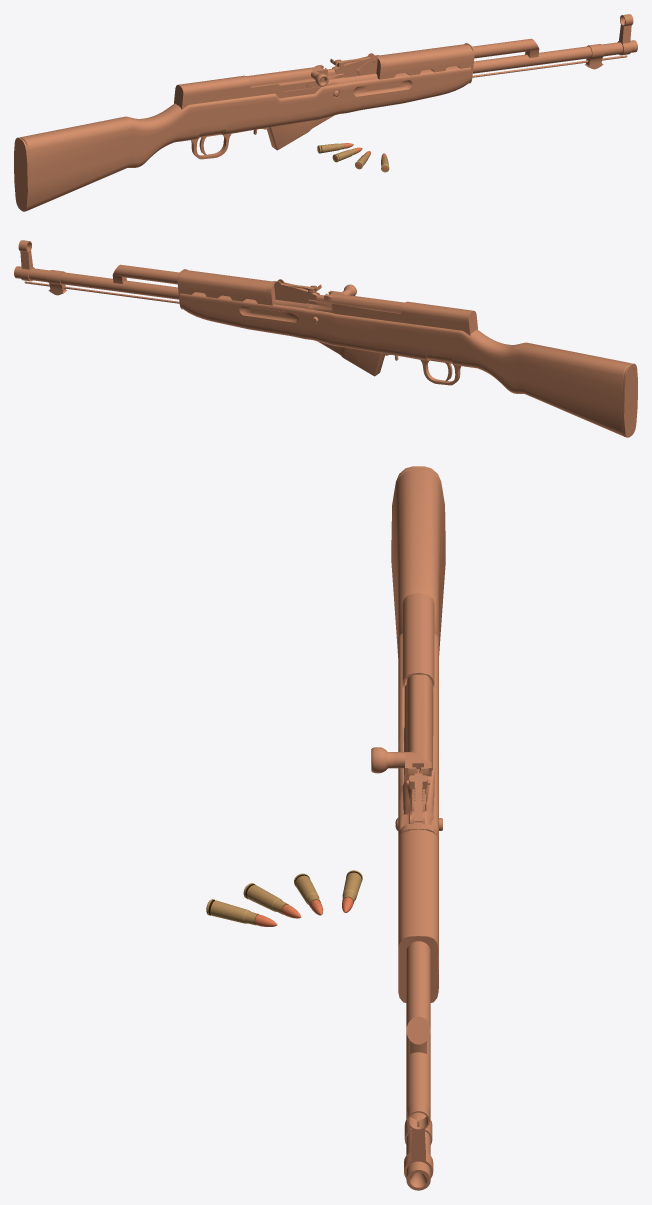
The picture shows the model from 3 angles, top to bottom: view 1: azimuth 30°, elevation 25°; view 2: azimuth 150°, elevation 25°; view 3: azimuth 270°, elevation 25°; orthographic projection. The views are drawn at different scales.
Visible parts, largest first — view 1: Base_Low, MetalBase_Low, Barrel_Low, HandGuardUp_Low, Shutter_Low, Magazine_Low, BarBase_Low, FrontSight_Low, Ramrod_Low, TriggerGuard_Low, BarrelHolder_Low; view 2: Base_Low, MetalBase_Low, Barrel_Low, HandGuardUp_Low, Shutter_Low, Magazine_Low, BarBase_Low, FrontSight_Low, Ramrod_Low, TriggerGuard_Low, BarrelHolder_Low; view 3: Base_Low, Barrel_Low, HandGuardUp_Low, MetalBase_Low, Shutter_Low, HandGuardUpBase_Low, FrontSight_Low.
Part boxes in pixels (<box>): Base_Low: <box>14,66,471,211</box>; MetalBase_Low: <box>174,68,377,109</box>; Barrel_Low: <box>472,38,637,73</box>; HandGuardUp_Low: <box>379,44,473,78</box>; Shutter_Low: <box>246,64,328,91</box>; Magazine_Low: <box>267,115,333,150</box>; BarBase_Low: <box>332,53,377,77</box>; FrontSight_Low: <box>617,14,633,55</box>; Ramrod_Low: <box>472,55,627,77</box>; TriggerGuard_Low: <box>190,132,240,159</box>; BarrelHolder_Low: <box>585,44,604,69</box>; Base_Low: <box>180,292,637,437</box>; MetalBase_Low: <box>274,294,477,335</box>; Barrel_Low: <box>14,264,179,299</box>; HandGuardUp_Low: <box>178,270,272,304</box>; Shutter_Low: <box>324,284,404,313</box>; Magazine_Low: <box>318,341,384,376</box>; BarBase_Low: <box>274,279,319,303</box>; FrontSight_Low: <box>18,240,34,281</box>; Ramrod_Low: <box>24,281,179,303</box>; TriggerGuard_Low: <box>411,358,461,385</box>; BarrelHolder_Low: <box>47,270,66,295</box>; Base_Low: <box>391,466,445,988</box>; Barrel_Low: <box>406,941,430,1190</box>; HandGuardUp_Low: <box>398,829,438,968</box>; MetalBase_Low: <box>402,593,434,824</box>; Shutter_Low: <box>371,674,433,782</box>; HandGuardUpBase_Low: <box>398,823,438,1002</box>; FrontSight_Low: <box>404,1102,433,1178</box>.
Size of the model in its own units: 1.01 by 0.1353 by 0.1702.
